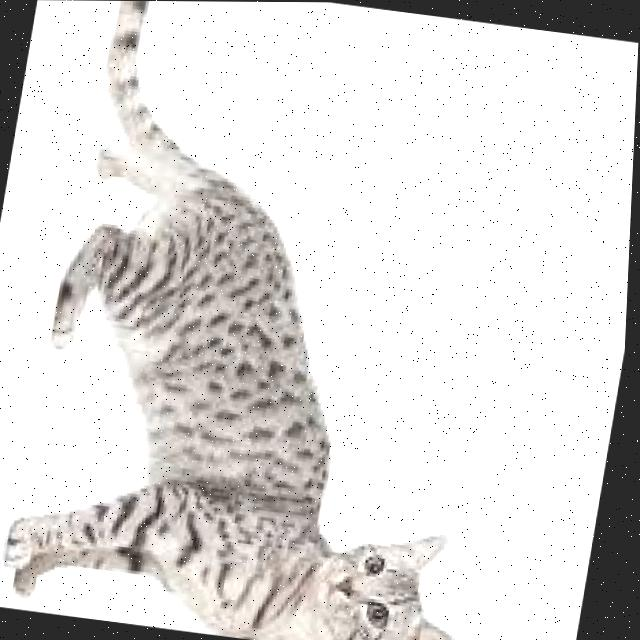Egyptian Mau: (0, 0, 566, 640)
